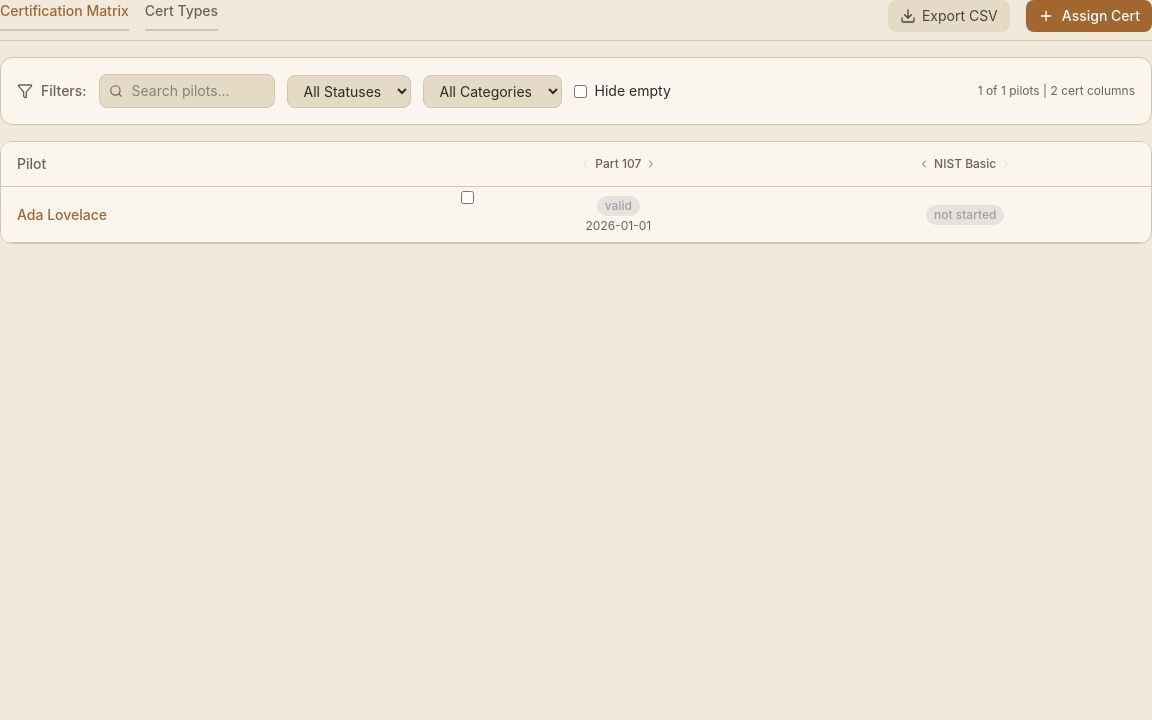
Scenario: CertificationsPage › prefills the assign modal from an empty matrix cell
This screenshot has width=1152, height=720.
Expected: the link "Ada Lovelace" is shown, [17,206,107,222]
Click the text "not started" at (965, 215), box [926,205,1004,225]
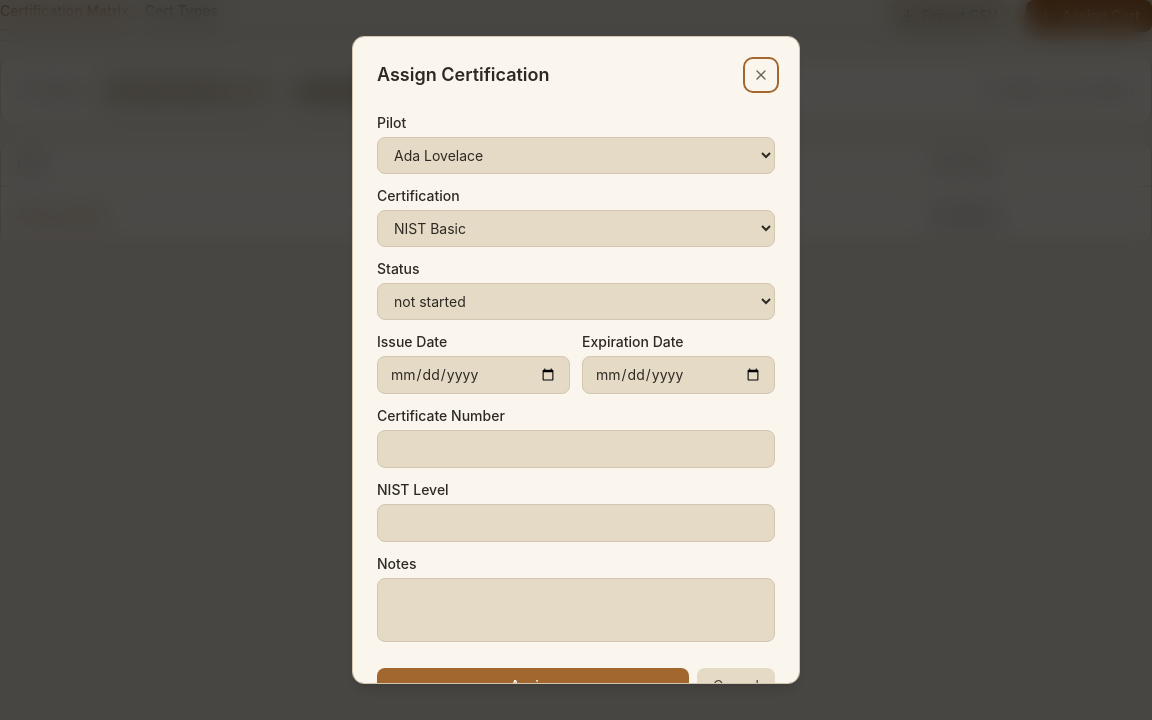
Result: the dropdown labelled "Pilot" shows "Ada Lovelace" at [377,137,775,174]
Result: the dropdown labelled "Certification" shows "NIST Basic" at [377,210,775,247]
